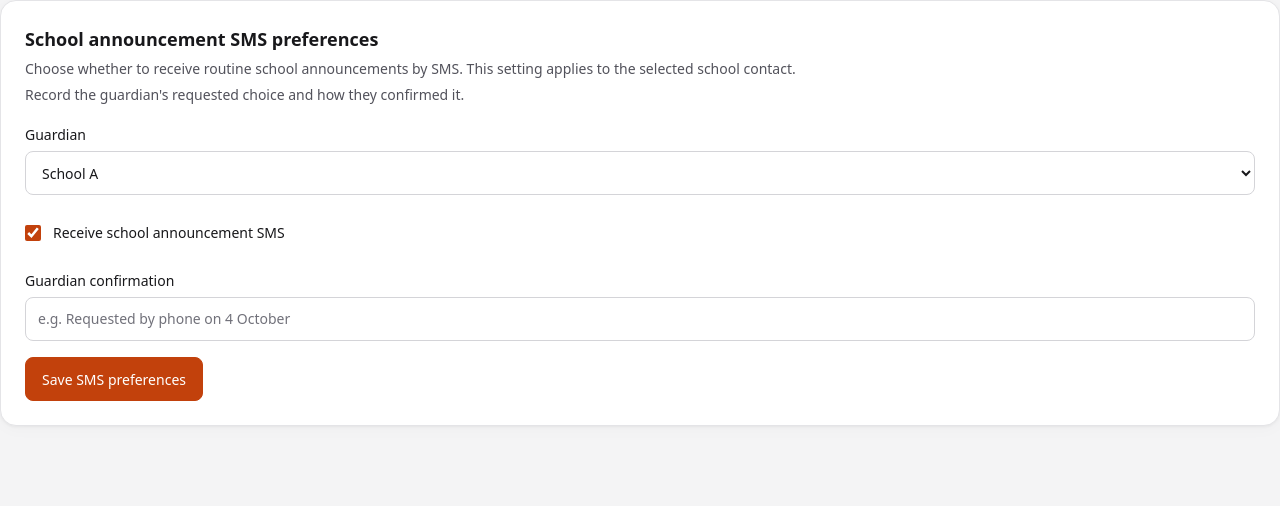
Test case: live SMS preferences › records staff confirmation and surfaces save failures
Type "Requested by phone today" into the field labelled "Guardian confirmation" at (640, 319), box [25, 297, 1255, 341]
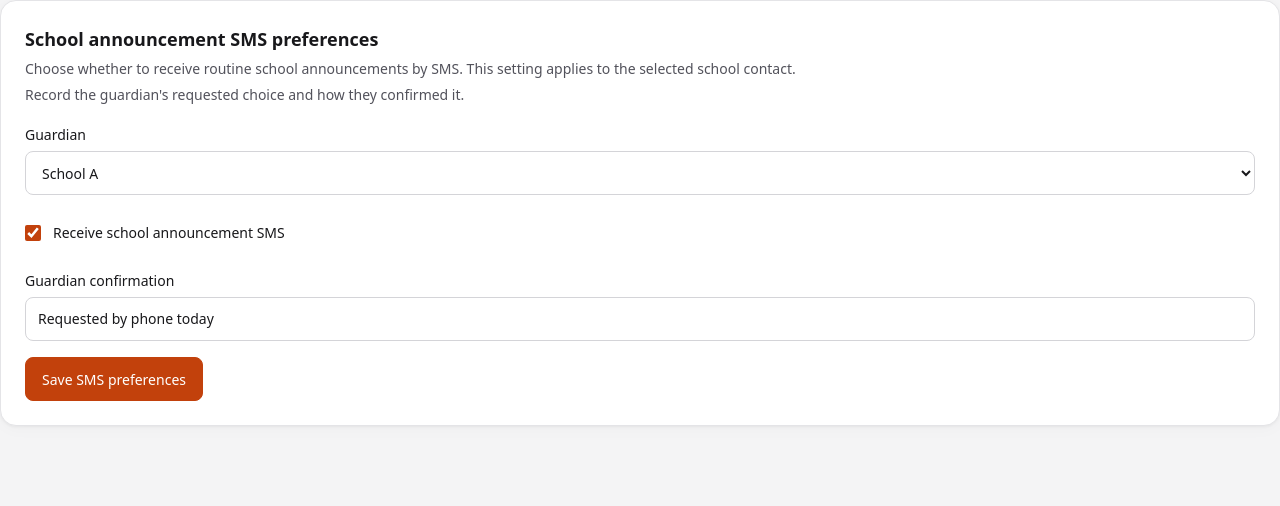
Click the button "Save SMS preferences" at (114, 379), box [25, 357, 203, 401]
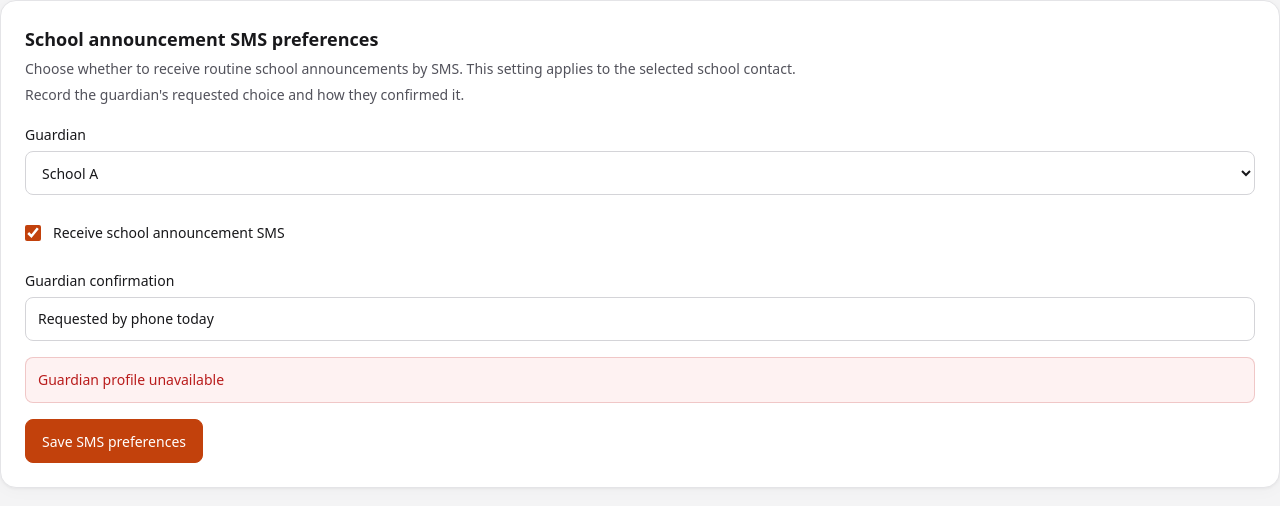
Expected: the message reads "Guardian profile unavailable", [38, 370, 224, 389]
